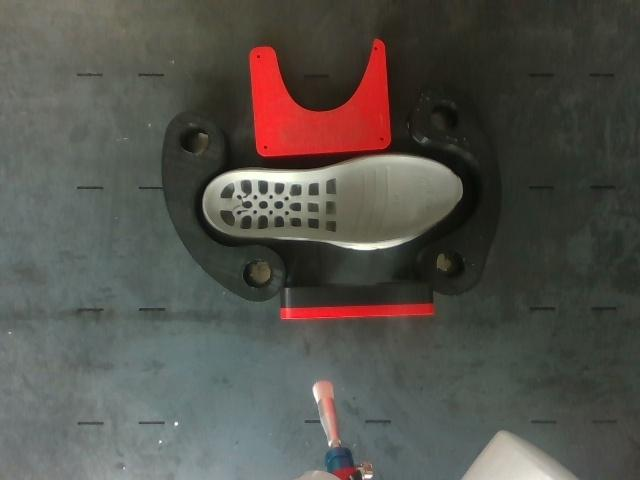shoes: (204, 157, 462, 244)
